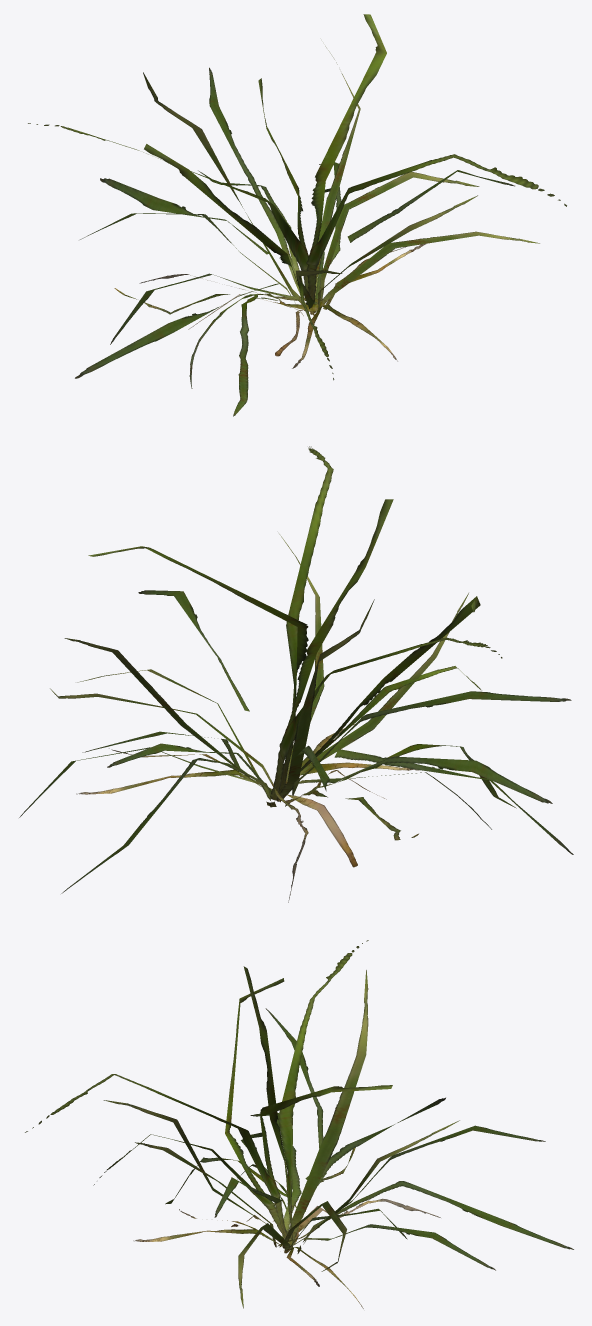
File: grass_medium_01_small_b.gltf
3 views of the same model, one above another, from view 1: azimuth 30°, elevation 25°; view 2: azimuth 150°, elevation 25°; view 3: azimuth 270°, elevation 25° (orthographic). The views are drawn at different scales.
Visible parts, largest first — view 1: grass_medium_01_small_b__x; view 2: grass_medium_01_small_b__x; view 3: grass_medium_01_small_b__x.
Boxes of the visible parts, box(x1,y1,x2,y2) form: grass_medium_01_small_b__x: box(28, 14, 566, 416); grass_medium_01_small_b__x: box(19, 446, 573, 902); grass_medium_01_small_b__x: box(25, 940, 573, 1308).
Bounding box in the file's own units: 0.166 × 0.0999 × 0.1899.
1 material, 1 textured.
